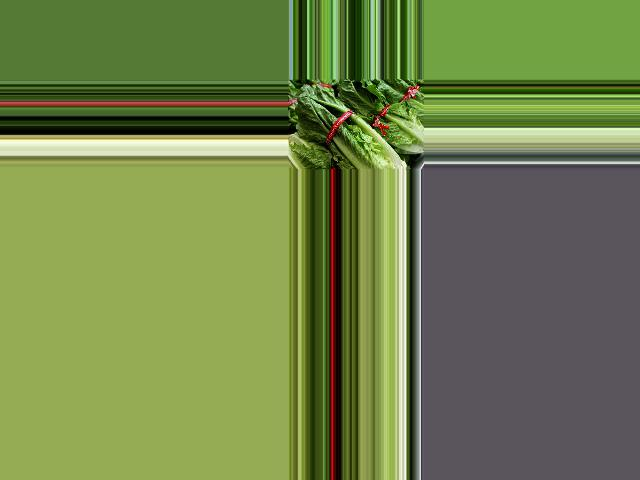lettuce: (294, 83, 405, 170)
